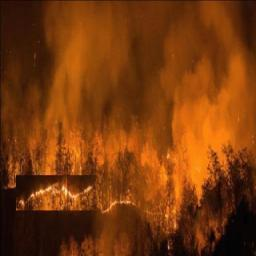Heavy smoke: (54, 10, 254, 184)
Small fire: (18, 181, 98, 210), (101, 199, 177, 224)
